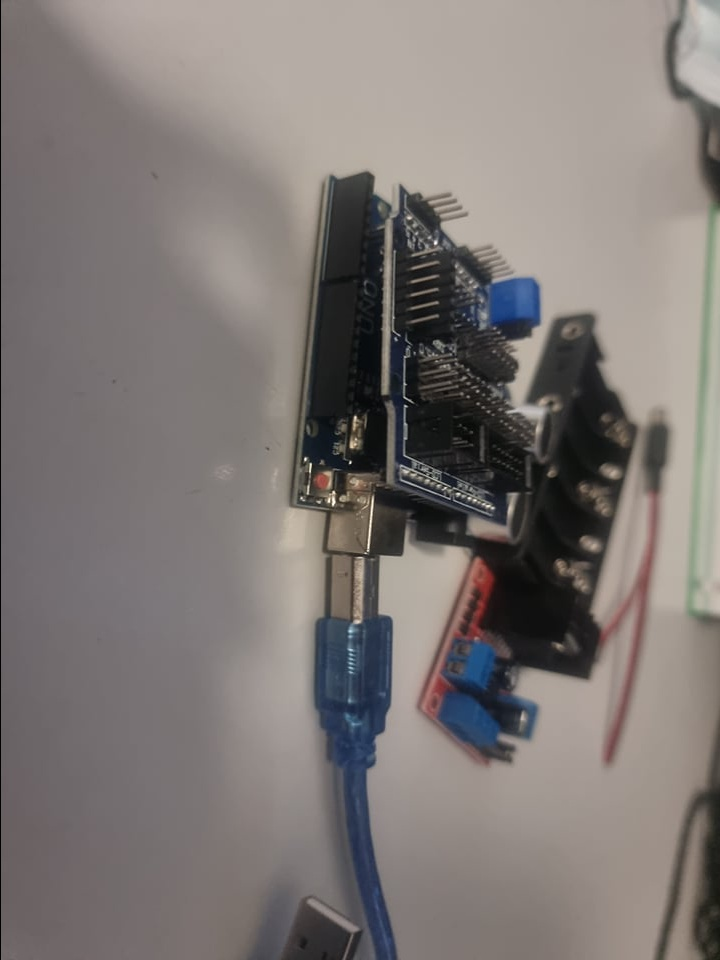5V EXPANSION: (396, 180, 557, 519)
BATTERY BOX: (525, 303, 662, 588)
MOTOR: (417, 554, 611, 773)
UNO R3: (286, 171, 391, 571)
